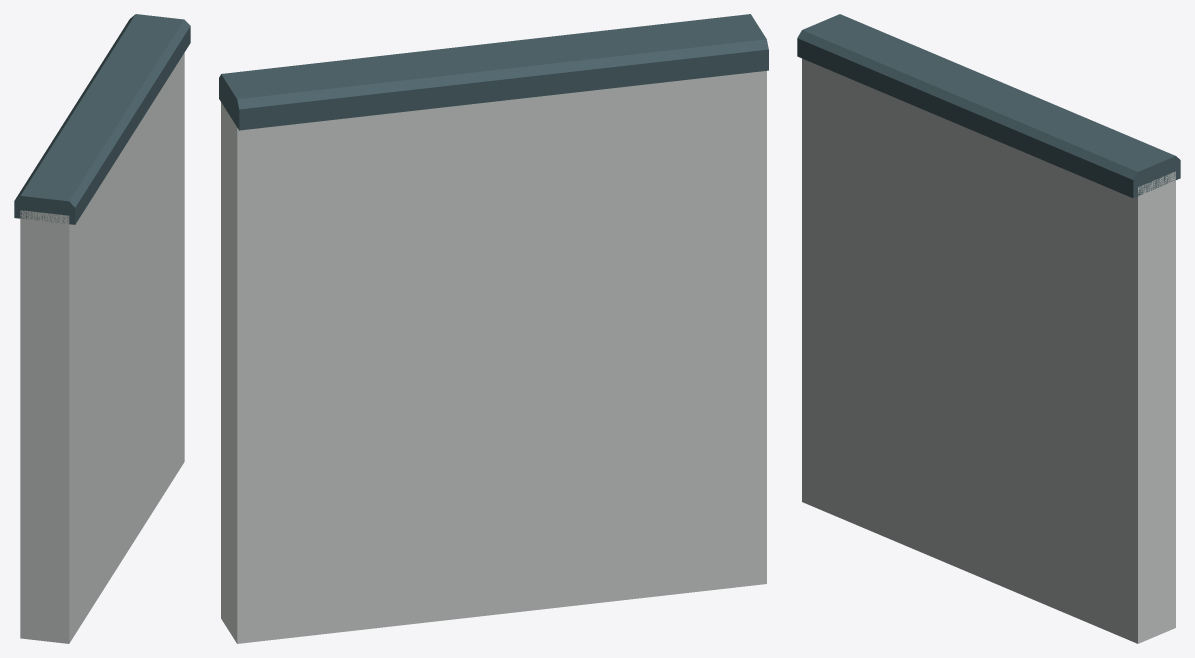
File: halfwall_45_port.glb
The picture shows the model from 3 angles, left to right: view 1: azimuth 30°, elevation 25°; view 2: azimuth 150°, elevation 25°; view 3: azimuth 270°, elevation 25°; orthographic projection. The views are drawn at different scales.
Visible parts, largest first — view 1: Seamless solid halfwall.003, Seamless top cap.003; view 2: Seamless solid halfwall.003, Seamless top cap.003; view 3: Seamless solid halfwall.003, Seamless top cap.003.
Part boxes in pixels (x1,y1,x2,y2): Seamless solid halfwall.003: (20, 53, 184, 643); Seamless top cap.003: (14, 14, 190, 224); Seamless solid halfwall.003: (221, 71, 766, 643); Seamless top cap.003: (219, 14, 768, 130); Seamless solid halfwall.003: (802, 58, 1175, 643); Seamless top cap.003: (797, 14, 1180, 198).
Bounding box in the file's own units: 0.5707 × 0.775 × 0.5707.
